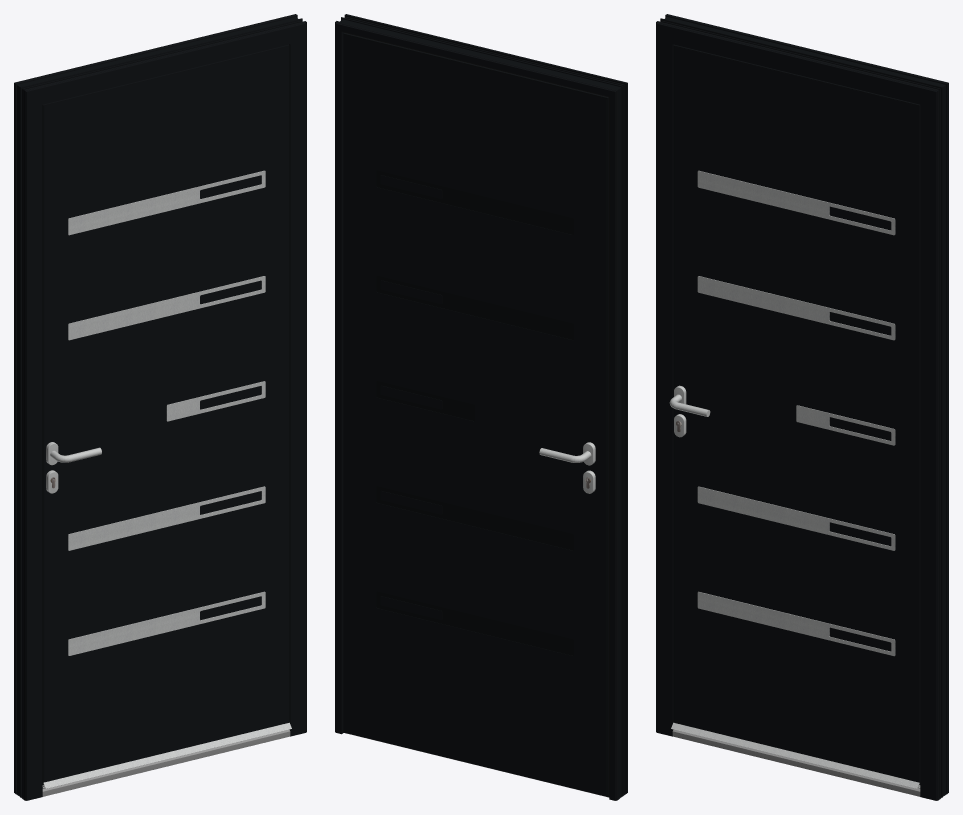
3 views of the same model, side by side, from view 1: azimuth 30°, elevation 25°; view 2: azimuth 150°, elevation 25°; view 3: azimuth 330°, elevation 25° (orthographic).
Parts seen in each view (by area): view 1: bloco_6, aroFixo, alunox_5, aroMovel, rodapé, escovas, puxador001, monobloco; view 2: bloco_6, aroFixo, monobloco, aroMovel, puxador; view 3: bloco_6, aroFixo, alunox_5, aroMovel, rodapé, escovas, puxador001, monobloco.
Boxes of the visible parts, left/top/right/bottom form: bloco_6: left=44, top=46, right=288, bottom=782; aroFixo: left=14, top=14, right=306, bottom=800; alunox_5: left=68, top=170, right=265, bottom=655; aroMovel: left=42, top=44, right=289, bottom=784; rodapé: left=42, top=729, right=290, bottom=796; escovas: left=42, top=722, right=291, bottom=788; puxador001: left=46, top=442, right=101, bottom=493; monobloco: left=44, top=46, right=288, bottom=781; bloco_6: left=343, top=34, right=606, bottom=795; aroFixo: left=335, top=14, right=627, bottom=800; monobloco: left=344, top=34, right=607, bottom=796; aroMovel: left=343, top=32, right=609, bottom=796; puxador: left=539, top=442, right=595, bottom=493; bloco_6: left=674, top=46, right=918, bottom=782; aroFixo: left=656, top=14, right=948, bottom=800; alunox_5: left=697, top=170, right=895, bottom=656; aroMovel: left=673, top=44, right=920, bottom=784; rodapé: left=672, top=729, right=920, bottom=796; escovas: left=671, top=722, right=920, bottom=788; puxador001: left=669, top=385, right=710, bottom=437; monobloco: left=674, top=46, right=917, bottom=722.
Bounding box in the file's own units: 900 × 2165 × 209.
7 materials, 2 textured.
